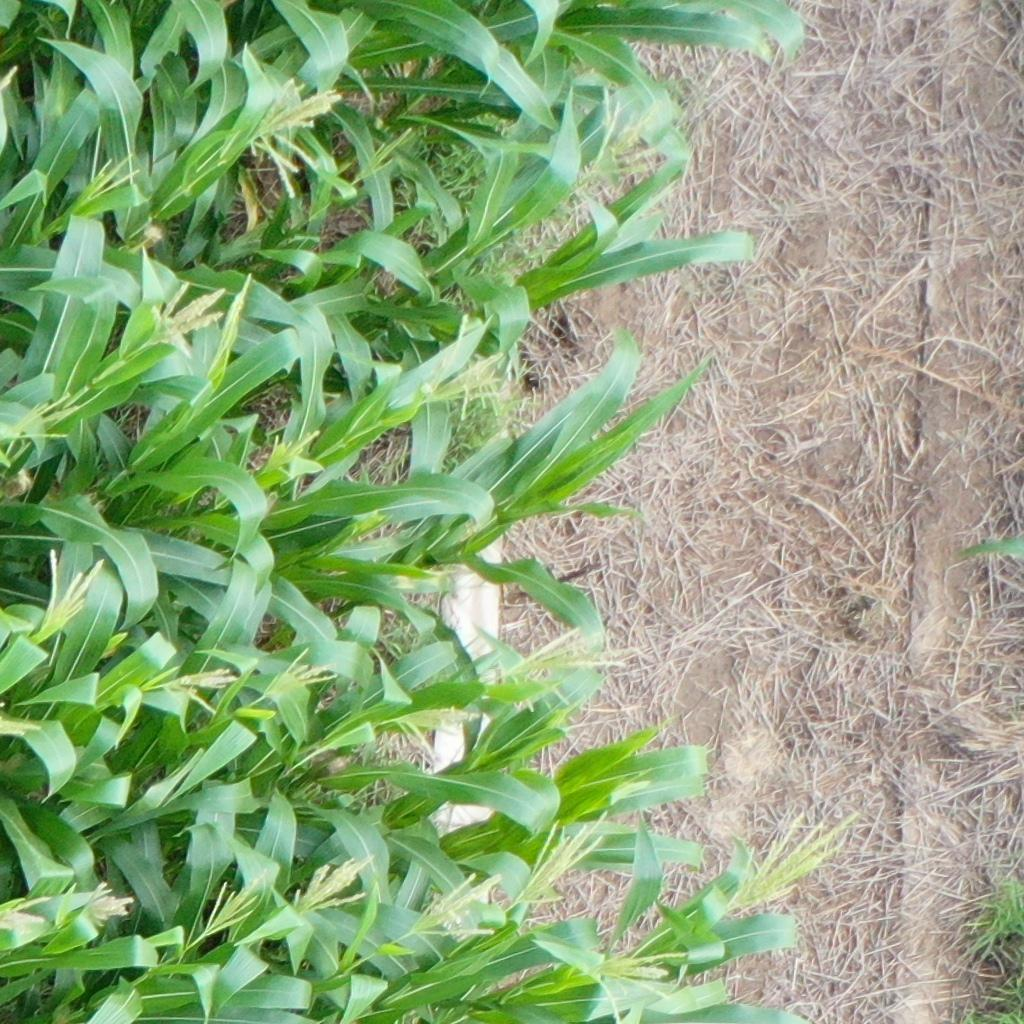Tassel: (723, 805, 860, 917), (237, 72, 346, 195), (495, 623, 628, 721), (578, 925, 693, 1024), (574, 82, 679, 184), (513, 811, 621, 905), (421, 307, 510, 418), (142, 278, 225, 364), (33, 545, 107, 639), (412, 872, 507, 944), (291, 850, 377, 924), (211, 270, 266, 379), (391, 699, 479, 765), (1, 390, 86, 451), (84, 120, 140, 212), (261, 649, 343, 708), (351, 124, 413, 197), (266, 422, 328, 490), (205, 868, 263, 939), (169, 664, 240, 718), (81, 881, 139, 941), (1, 696, 52, 746), (1, 893, 52, 936)
